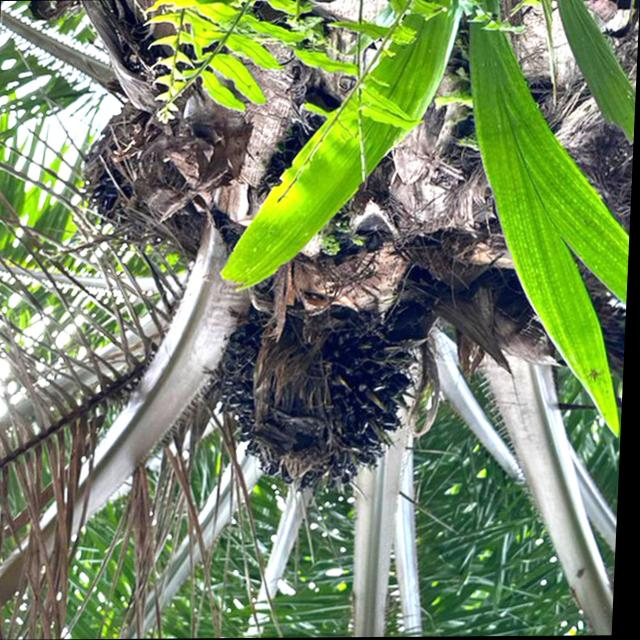unripe: (202, 258, 444, 507), (83, 108, 237, 258)
